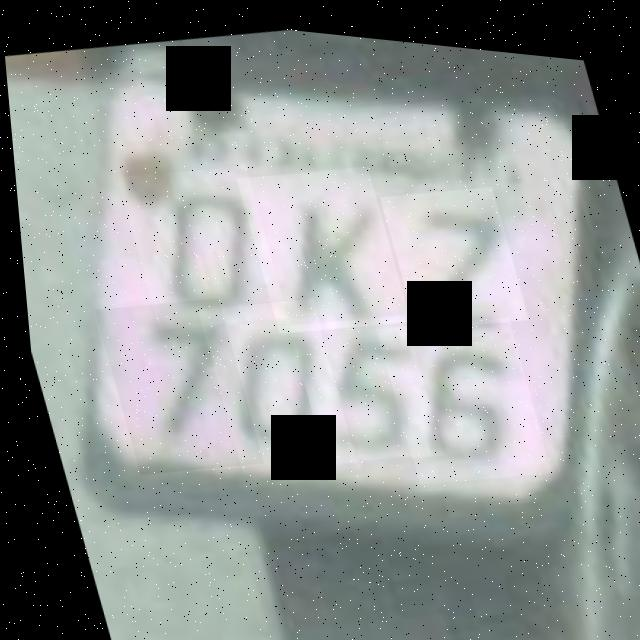0: (191, 283, 353, 479)
5: (281, 297, 437, 469)
6: (370, 296, 546, 487)
7: (87, 284, 257, 483)
K: (232, 148, 408, 339)
O: (113, 149, 284, 337)
Z: (376, 167, 526, 331)
